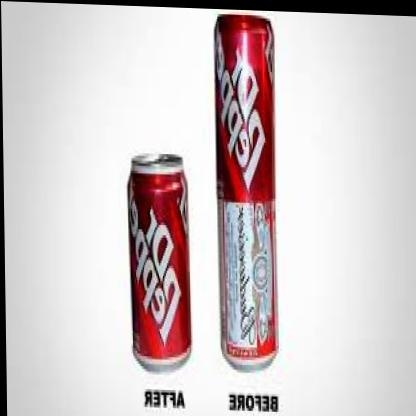trash: (215, 15, 277, 368), (128, 154, 190, 369)
